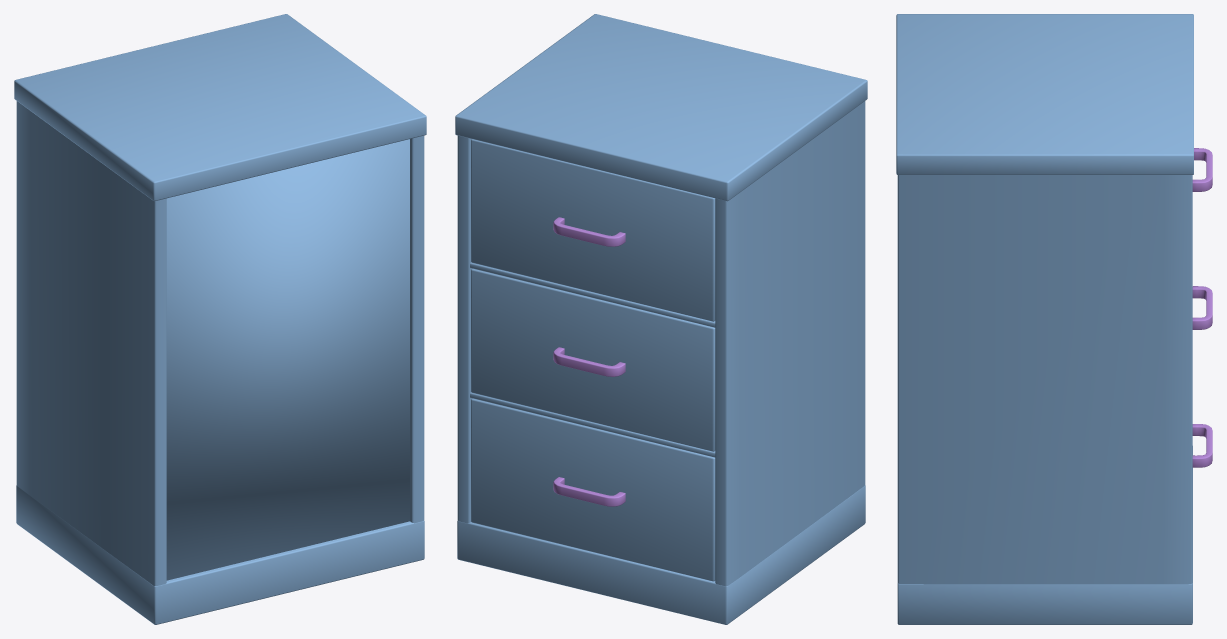
Rendered from cabinet.dae.
3 views of the same model, side by side, from view 1: azimuth 30°, elevation 25°; view 2: azimuth 150°, elevation 25°; view 3: azimuth 270°, elevation 25° (orthographic). The views are drawn at different scales.
Parts seen in each view (by area): view 1: Cabinet Back, Cabinet.003, Cabinet.001, Cabinet, Cabinet.002; view 2: Cabinet.003, Cabinet.001, Drawer Front.001, Drawer Front.002, Drawer Front, Cabinet, Cabinet.002, Cabinet Inner, Drawer Handle.002, Drawer Handle, Drawer Handle.001; view 3: Cabinet.002, Cabinet.001, Cabinet, Drawer Handle.001, Drawer Handle.002, Drawer Handle.
Part boxes in pixels (<box>): Cabinet Back: <box>166,139,409,580</box>; Cabinet.003: <box>16,101,166,585</box>; Cabinet.001: <box>14,14,426,201</box>; Cabinet: <box>16,485,424,624</box>; Cabinet.002: <box>410,135,424,523</box>; Cabinet.003: <box>715,101,865,586</box>; Cabinet.001: <box>455,14,867,201</box>; Drawer Front.001: <box>471,268,715,451</box>; Drawer Front.002: <box>471,398,715,581</box>; Drawer Front: <box>471,139,715,321</box>; Cabinet: <box>457,485,865,624</box>; Cabinet.002: <box>457,135,471,523</box>; Cabinet Inner: <box>470,262,715,457</box>; Drawer Handle.002: <box>553,477,625,506</box>; Drawer Handle: <box>553,217,625,246</box>; Drawer Handle.001: <box>553,347,625,376</box>; Cabinet.002: <box>897,175,1192,584</box>; Cabinet.001: <box>896,14,1193,174</box>; Cabinet: <box>897,446,1192,624</box>; Drawer Handle.001: <box>1192,286,1212,329</box>; Drawer Handle.002: <box>1192,424,1212,467</box>; Drawer Handle: <box>1192,148,1212,191</box>.
Size of the model in its own units: 0.5788 by 0.5461 by 0.8981.
